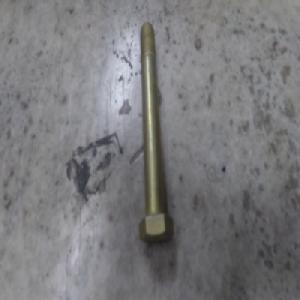Bolt: (140, 28, 176, 242)
